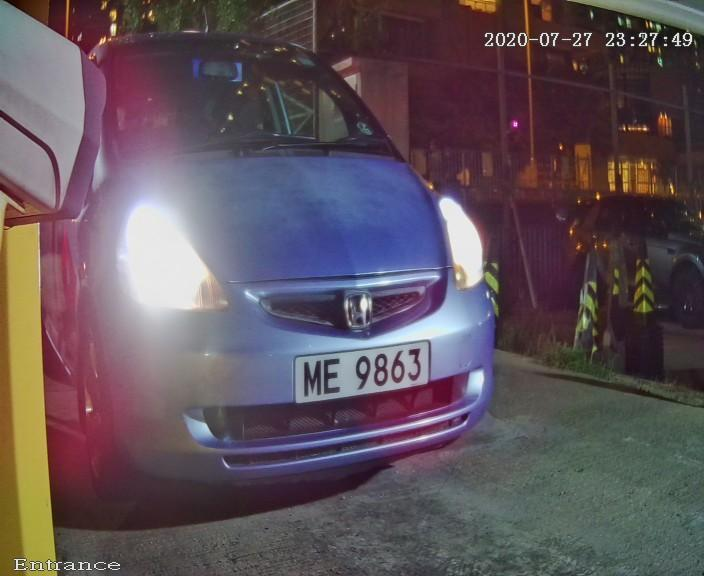privatecar: (38, 11, 532, 533)
